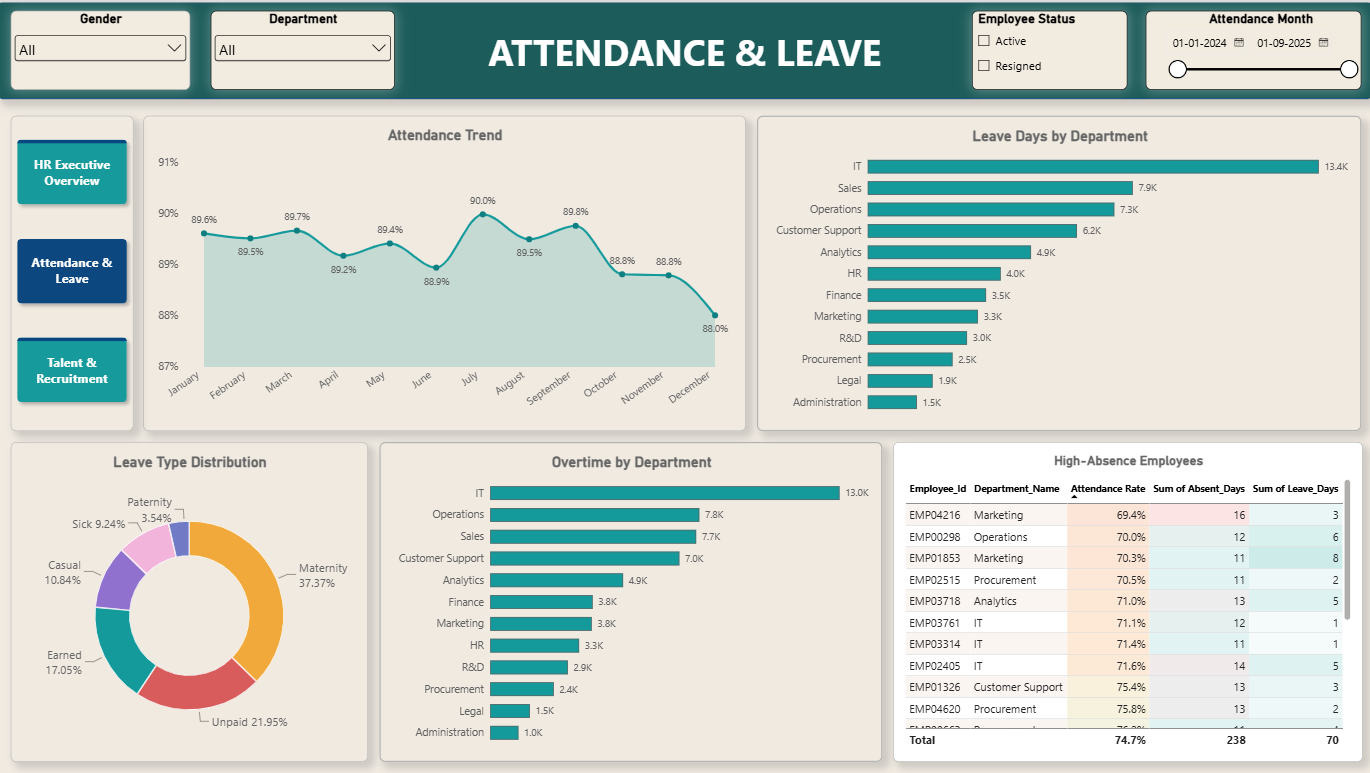

This screenshot's page, from the dashboard's own definition file:
{"tool":"powerbi","page":{"name":"Attendance & Leave","canvas":[1920,1080],"ordinal":1},"visuals":[{"type":"lineChart","title":"Attendance Trend","fields":{"Y":["attendance.Attendance Rate"],"Category":["attendance.Attendance_Month.Variation.Date Hierarchy.Month"]},"box":[204.5,158.6,841,440.3],"z":0},{"type":"clusteredBarChart","title":"Leave Days by Department","fields":{"Category":["departments.Department_Name"],"Y":["leave_records.Total Leave Days"]},"box":[1060.2,158.6,843.1,440.3],"z":1000},{"type":"donutChart","title":"Leave Type Distribution","fields":{"Category":["leave_records.Leave_Type"],"Y":["leave_records.Total Leave Days"]},"box":[18.8,613.6,498.8,446.6],"z":2000},{"type":"clusteredBarChart","title":"Overtime by Department","fields":{"Category":["departments.Department_Name"],"Y":["Sum(attendance.Overtime_Hours)"]},"box":[534.3,613.6,701.2,446.6],"z":3000},{"type":"tableEx","title":"High-Absence Employees","fields":{"Values":["Employee_Clean.Employee_Id","departments.Department_Name","attendance.Attendance Rate","Sum(attendance.Absent_Days)","Sum(attendance.Leave_Days)"]},"box":[1250.1,613.6,655.3,446.6],"z":4000},{"type":"shape","box":[0,0,1920,135.7],"z":5000},{"type":"slicer","title":"Department","fields":{"Values":["departments.Department_Name"]},"box":[298.4,12.5,256.7,110.6],"z":6000},{"type":"slicer","fields":{"Values":["Employee_Clean.Employee_Status"]},"box":[1360.7,12.5,217,110.6],"z":7000},{"type":"slicer","title":"Attendance Month","fields":{"Values":["attendance.Attendance_Month"]},"box":[1603,12.6,300.5,110.6],"z":8000},{"type":"slicer","title":"Gender","fields":{"Values":["Employee_Clean.Gender"]},"box":[18.8,12.5,250.4,110.6],"z":9000},{"type":"shape","box":[18.8,158.6,171.1,440.3],"z":10000},{"type":"pageNavigator","box":[18.8,183.7,171.1,386.1],"z":11000}]}

Visuals, with their boxes in screenshot pixels (x1, y1, x2, y2), scaled from the page's 1920x1080 canvas onto the 1370x773 screenshot:
"Attendance Trend" lineChart: bbox(146, 114, 746, 429)
"Leave Days by Department" clusteredBarChart: bbox(756, 114, 1358, 429)
"Leave Type Distribution" donutChart: bbox(13, 439, 369, 759)
"Overtime by Department" clusteredBarChart: bbox(381, 439, 882, 759)
"High-Absence Employees" tableEx: bbox(892, 439, 1360, 759)
shape: bbox(0, 0, 1369, 97)
"Department" slicer: bbox(213, 9, 396, 88)
slicer - Employee_Clean.Employee_Status: bbox(971, 9, 1126, 88)
"Attendance Month" slicer: bbox(1144, 9, 1358, 88)
"Gender" slicer: bbox(13, 9, 192, 88)
shape: bbox(13, 114, 136, 429)
pageNavigator: bbox(13, 131, 136, 408)
